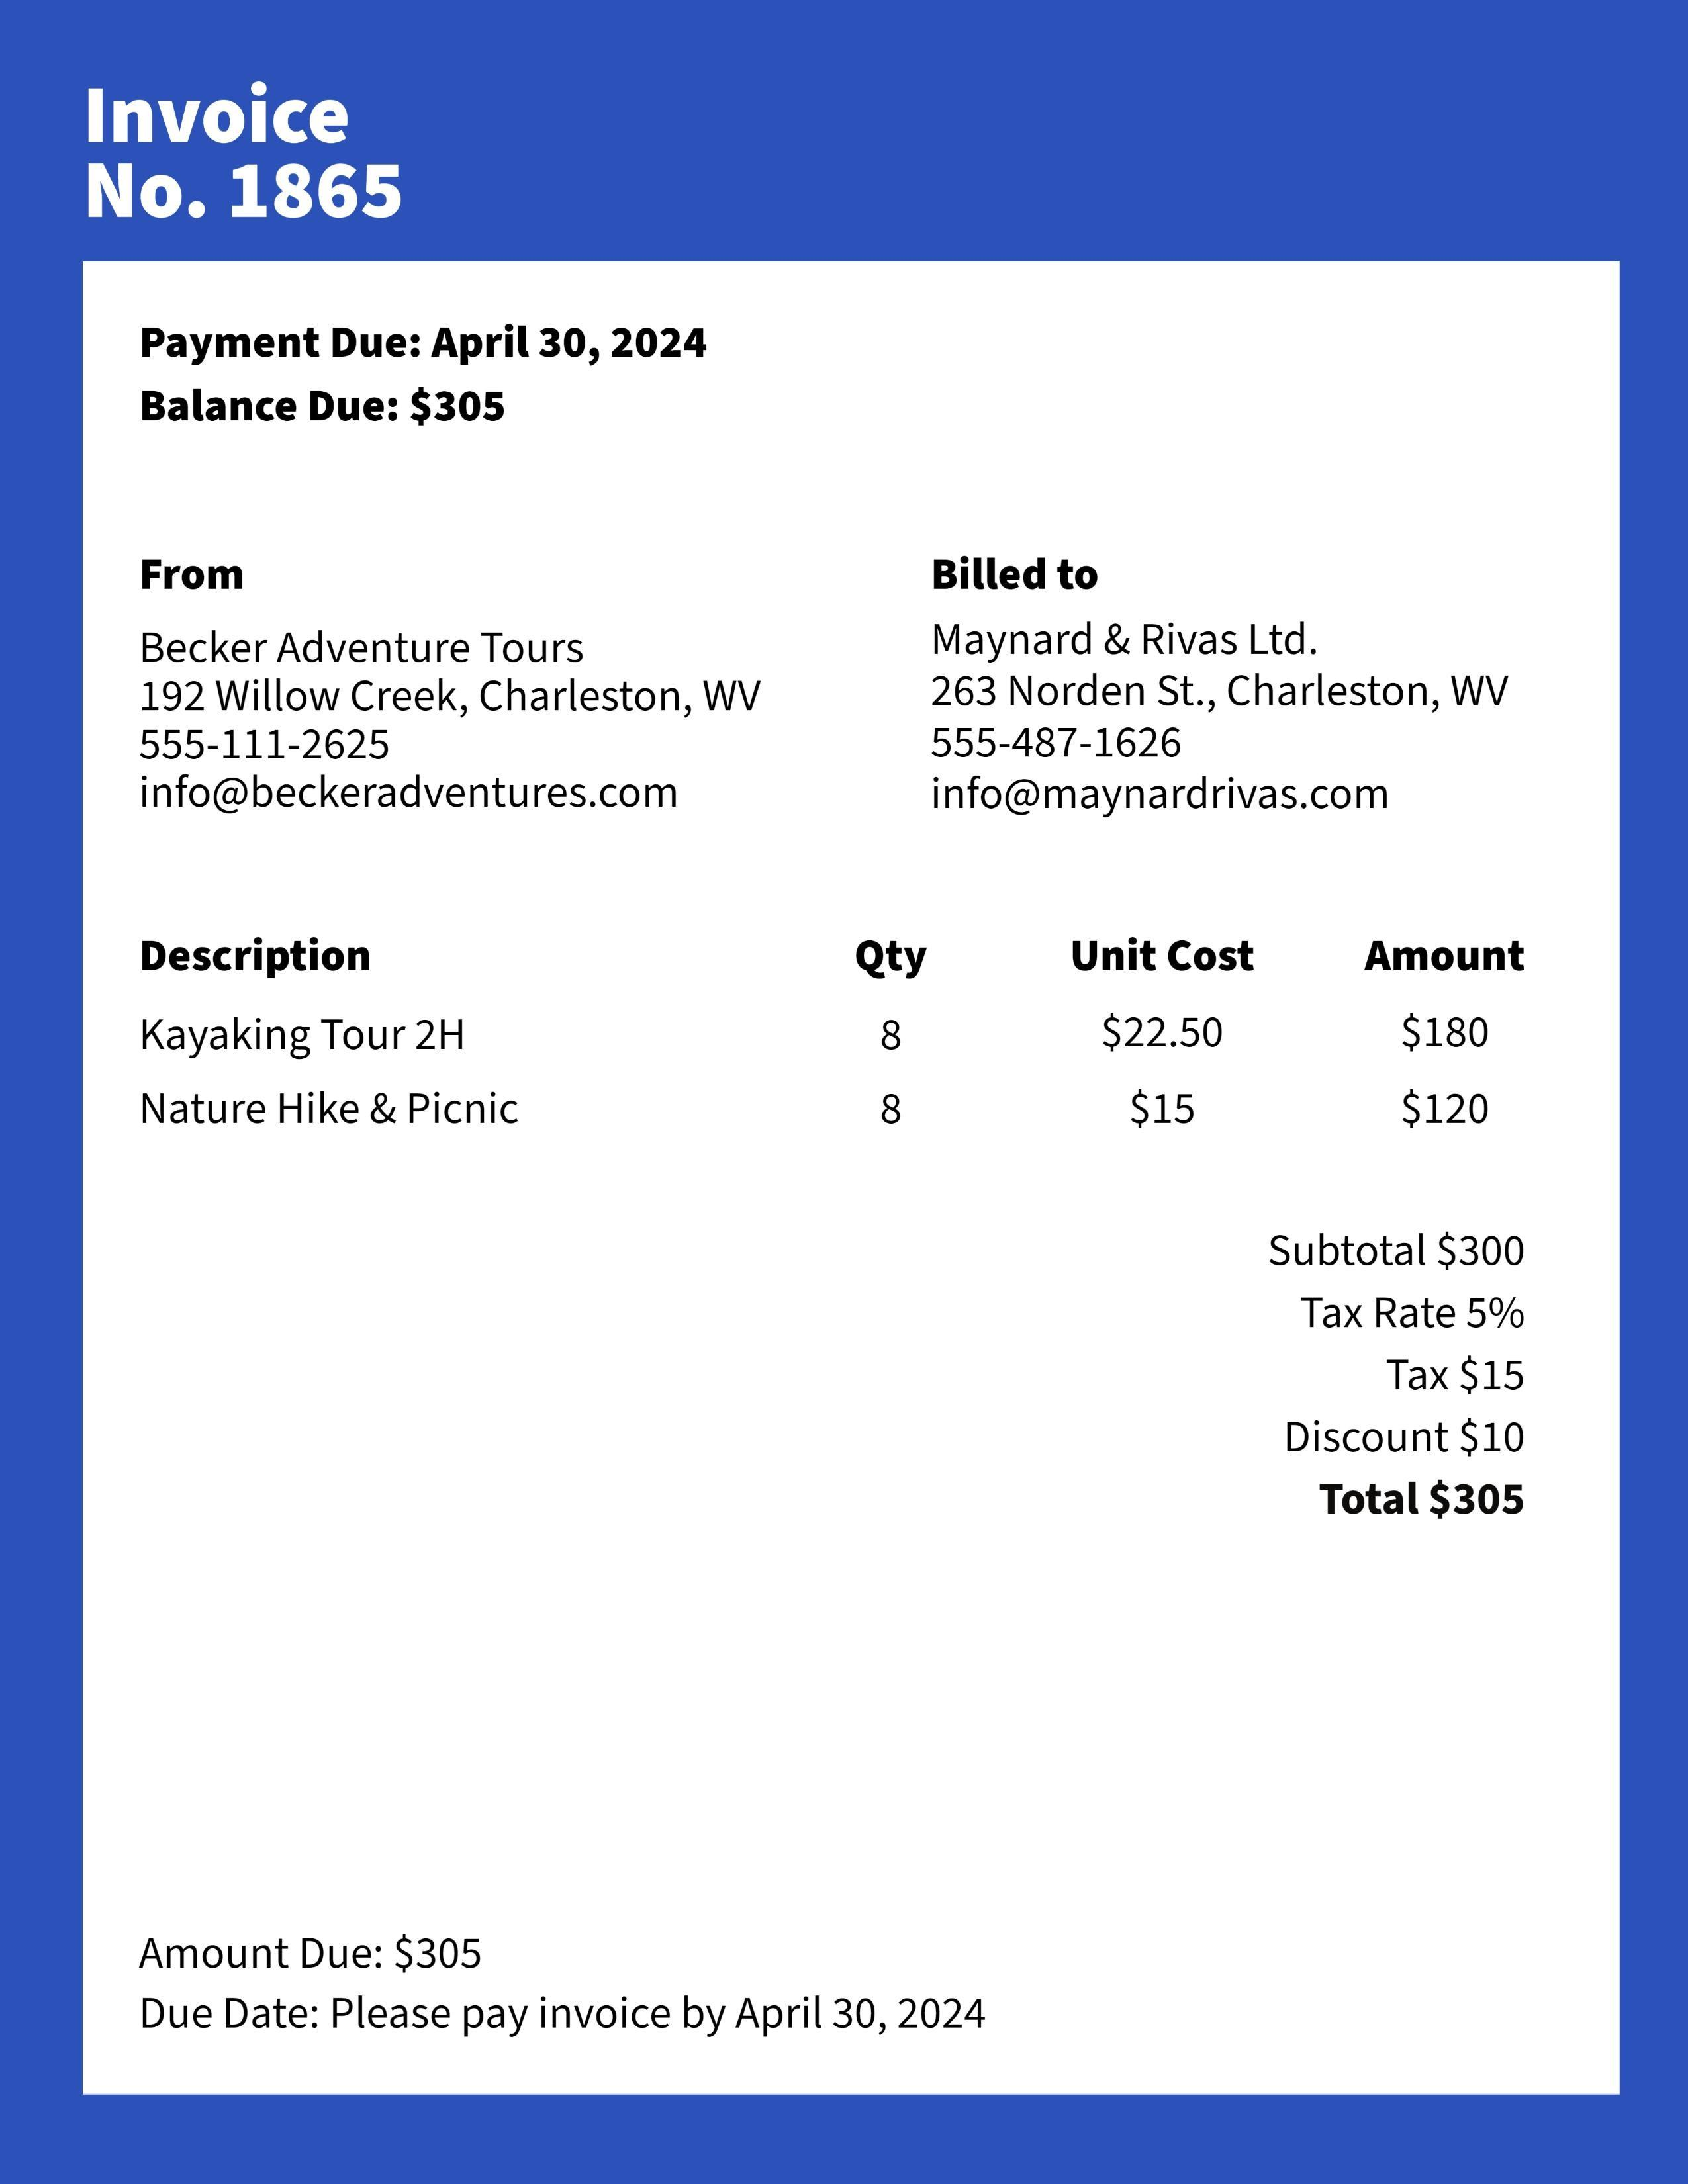ROI: (128, 932, 1559, 1142), (117, 541, 812, 823), (931, 535, 1523, 821), (129, 312, 743, 457), (1255, 1218, 1536, 1521), (76, 67, 457, 252)
